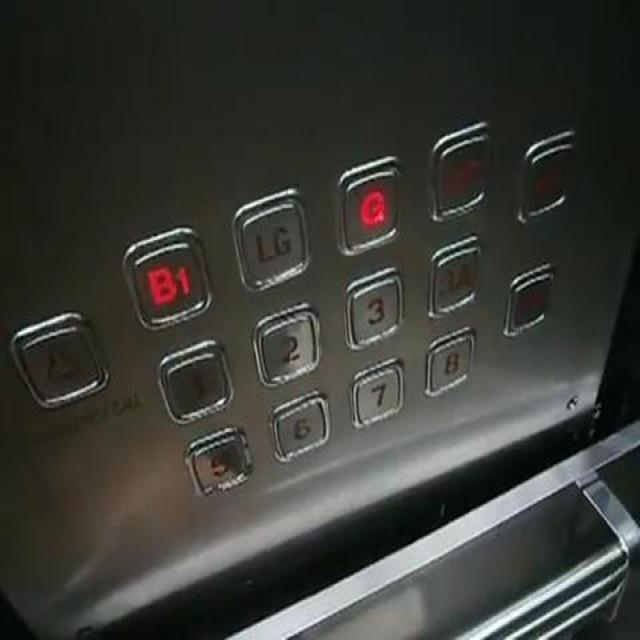1: (152, 337, 233, 424)
2: (253, 300, 321, 388)
3: (342, 264, 404, 348)
5: (180, 423, 255, 500)
6: (268, 392, 331, 465)
7: (347, 356, 405, 432)
8: (422, 325, 476, 395)
B1: (121, 226, 217, 334)
G: (334, 157, 403, 255)
LG: (229, 187, 311, 292)
alarm: (7, 309, 105, 411)
blur: (426, 120, 489, 220), (519, 132, 577, 223), (429, 232, 480, 316), (503, 264, 555, 344)
